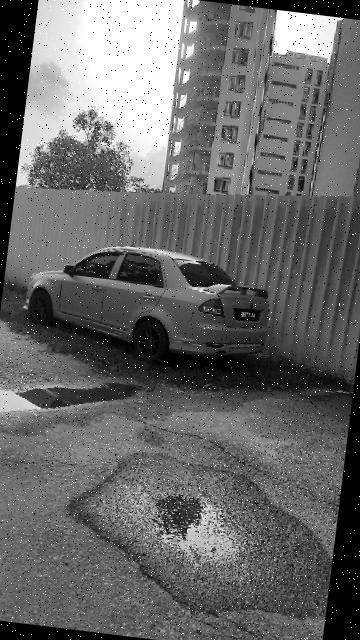License_Plate: (236, 305, 263, 324)
car: (16, 232, 287, 377)
